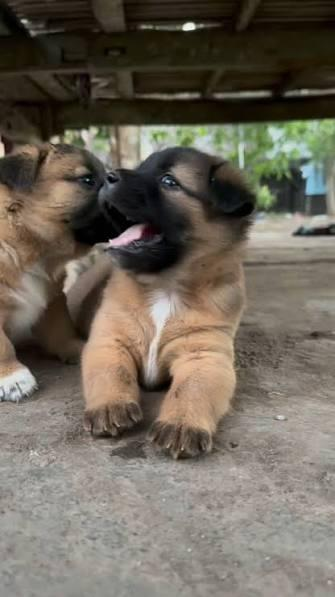puppy-dog: (64, 145, 259, 460), (0, 137, 119, 404)
